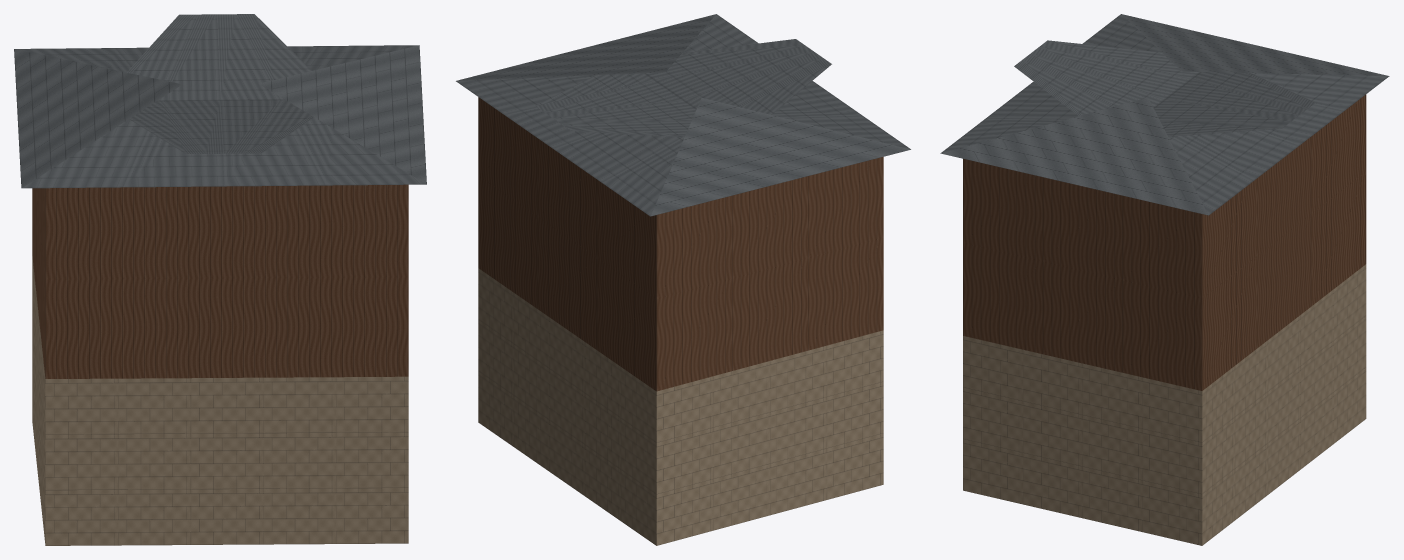
The model's file is bld_c8_7_508.gltf.
The picture shows the model from 3 angles, left to right: view 1: azimuth 30°, elevation 25°; view 2: azimuth 150°, elevation 25°; view 3: azimuth 270°, elevation 25°; orthographic projection. The views are drawn at different scales.
Visible parts, largest first — view 1: bld_c8_7_508; view 2: bld_c8_7_508; view 3: bld_c8_7_508.
Part boxes in pixels (x1,y1,x2,y2): bld_c8_7_508: [14, 14, 426, 545]; bld_c8_7_508: [456, 14, 910, 545]; bld_c8_7_508: [940, 14, 1389, 545].
Bounding box in the file's own units: 14.25 × 12.2 × 13.42.
3 materials, 3 textured.
